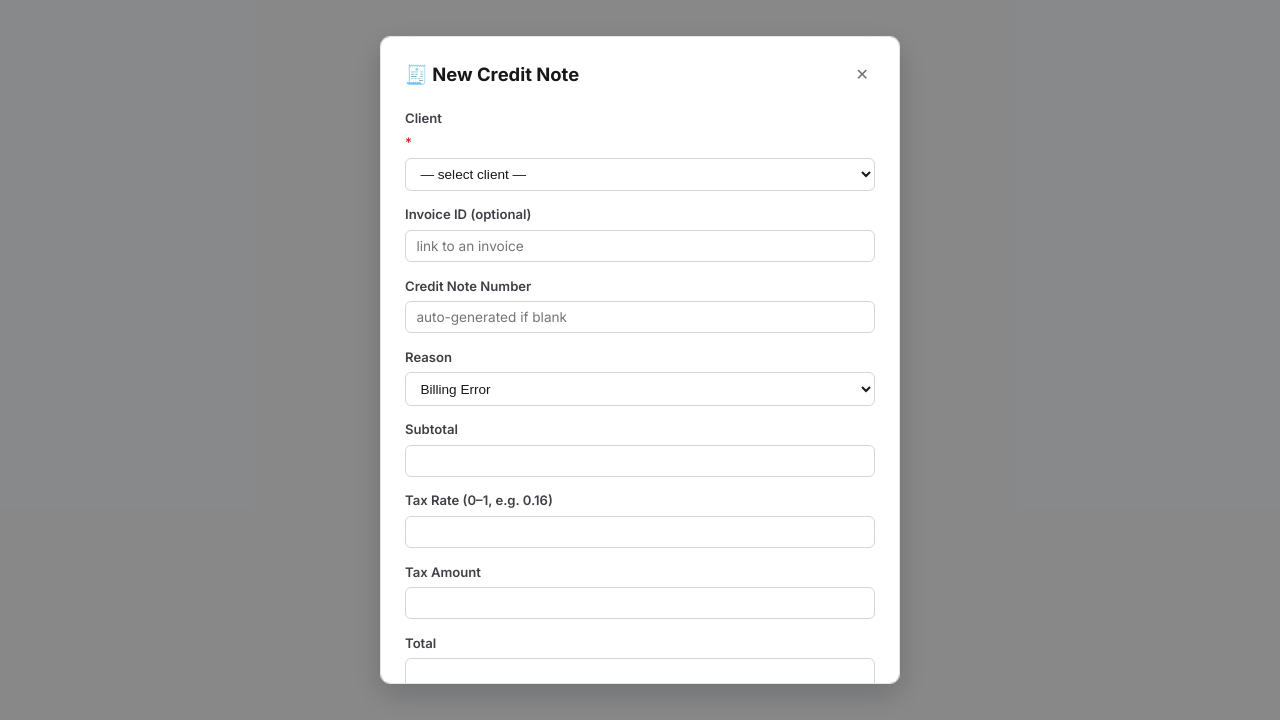
Test case: CreditNoteList page › prefills the amounts from the credited invoice (j44)
The image size is (1280, 720).
Type "5" into the number field with placeholder "link to an invoice" at [640, 246], box [405,230,875,262]
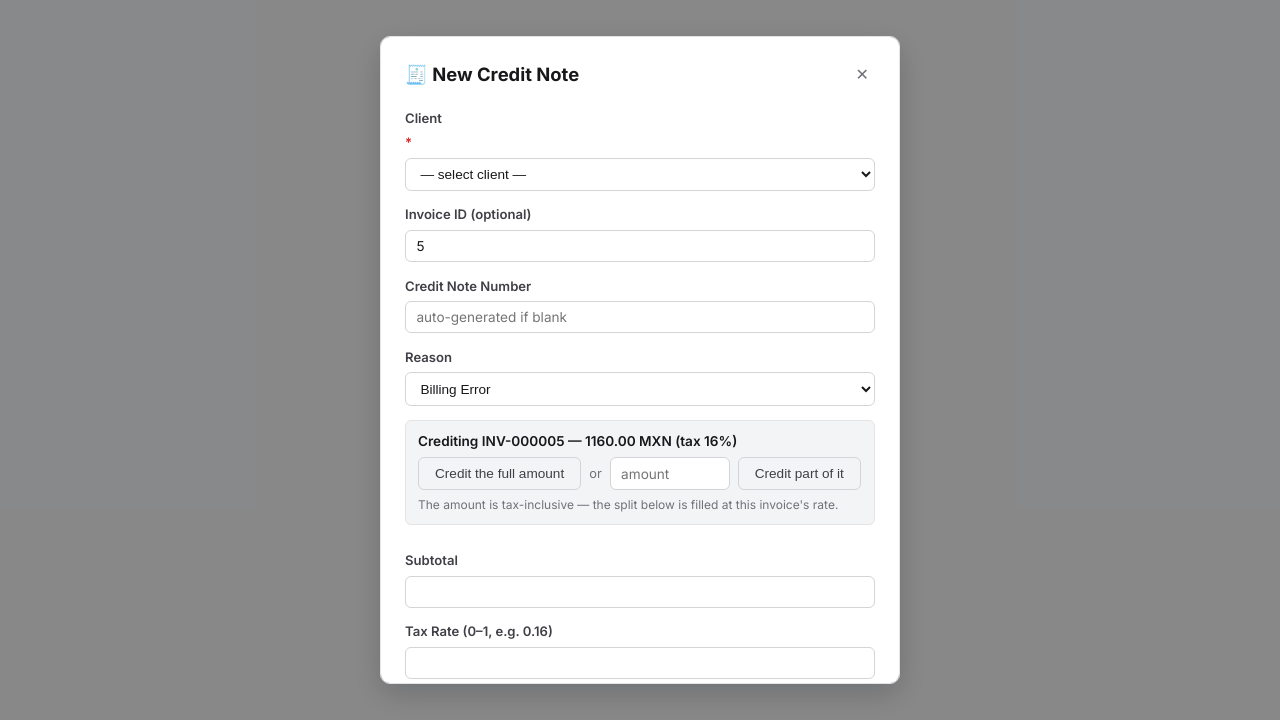
Result: the text "Crediting INV-000005 — 1160.00 MXN (tax 16%)" is shown at [418,433,737,449]
Click the button "Credit the full amount" at [500, 474], box [418,457,581,490]
(page scrolled)
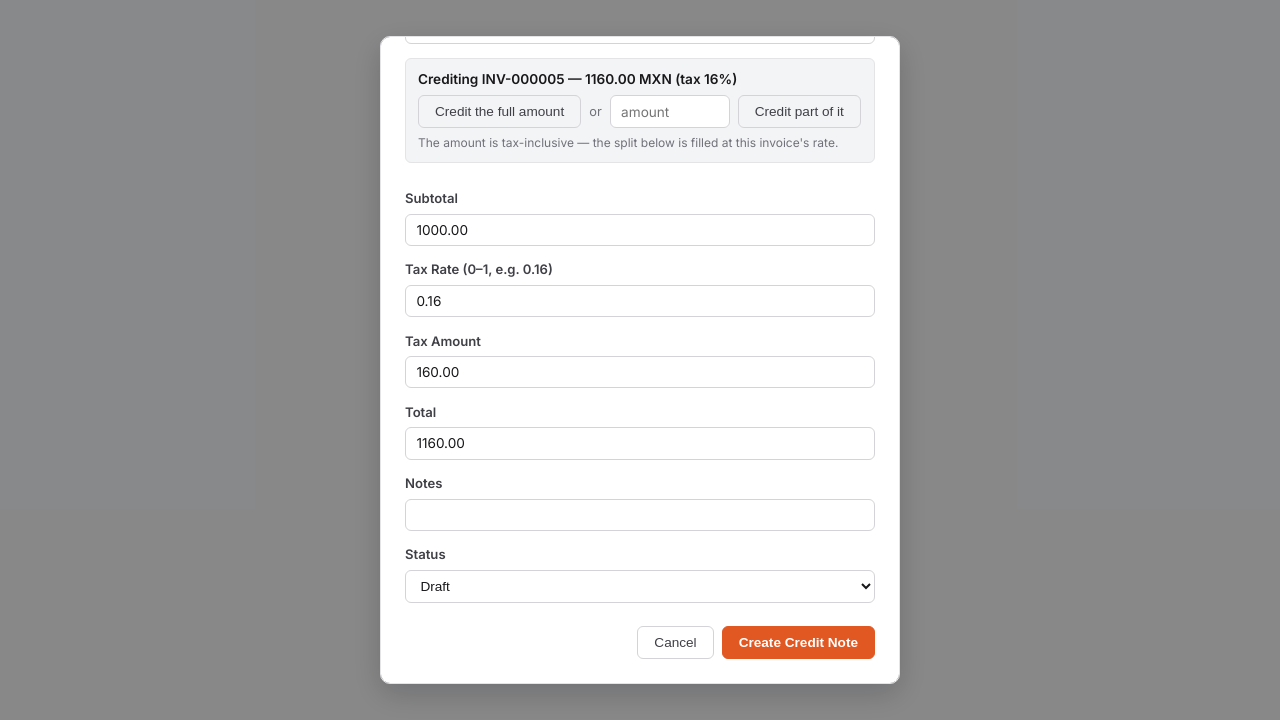
Result: the number field labelled "Subtotal" holds "1000.00" at [405,214,875,246]
Result: the number field labelled "Tax Amount" holds "160.00" at [405,356,875,388]
Result: the number field labelled "Total" holds "1160.00" at [405,427,875,460]
